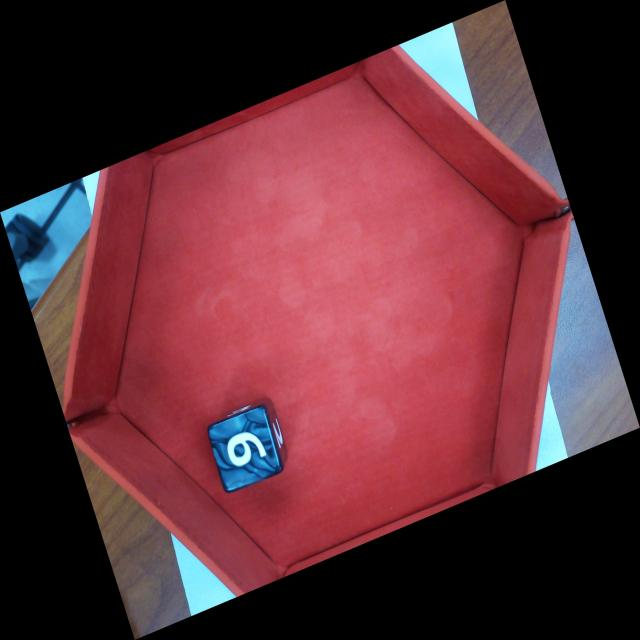dice: (210, 409, 280, 491)
